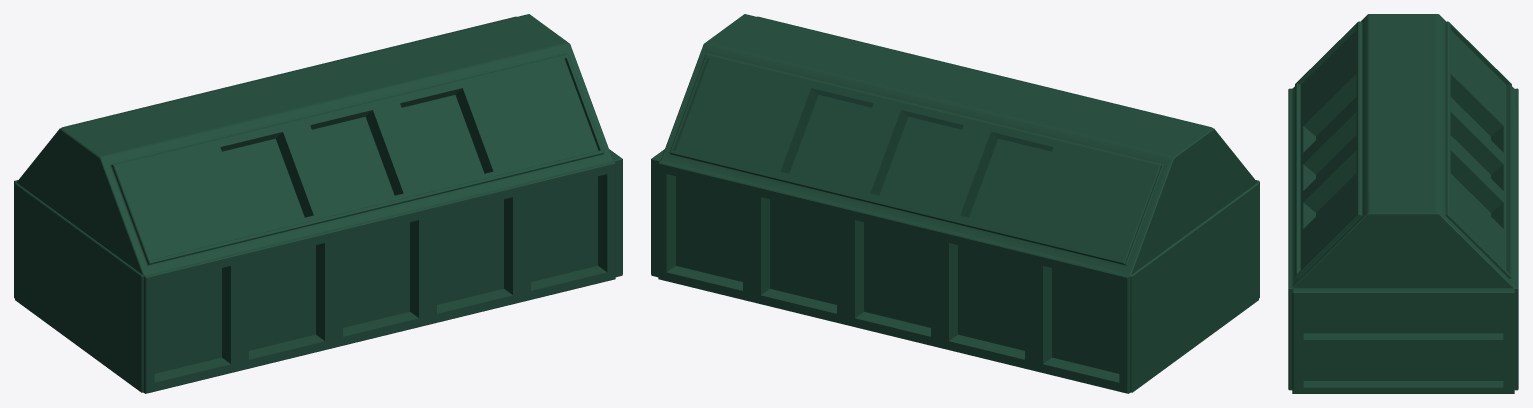
Rendered from Benne à ordure.fbx.
3 renders of one model, left to right at view 1: azimuth 30°, elevation 25°; view 2: azimuth 150°, elevation 25°; view 3: azimuth 270°, elevation 25°, orthographic. The views are drawn at different scales.
Parts seen in each view (by area): view 1: Benne à ordure; view 2: Benne à ordure; view 3: Benne à ordure.
Boxes of the visible parts, box(x1,y1,x2,y2) form: Benne à ordure: box(14, 14, 622, 393); Benne à ordure: box(651, 14, 1259, 393); Benne à ordure: box(1288, 14, 1518, 393).
Size of the model in its own units: 243 by 206 by 512.
